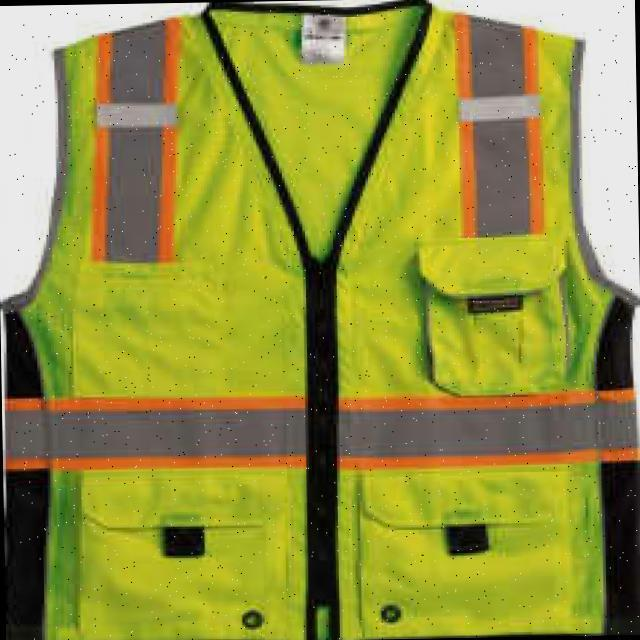vest: (5, 1, 640, 640)
